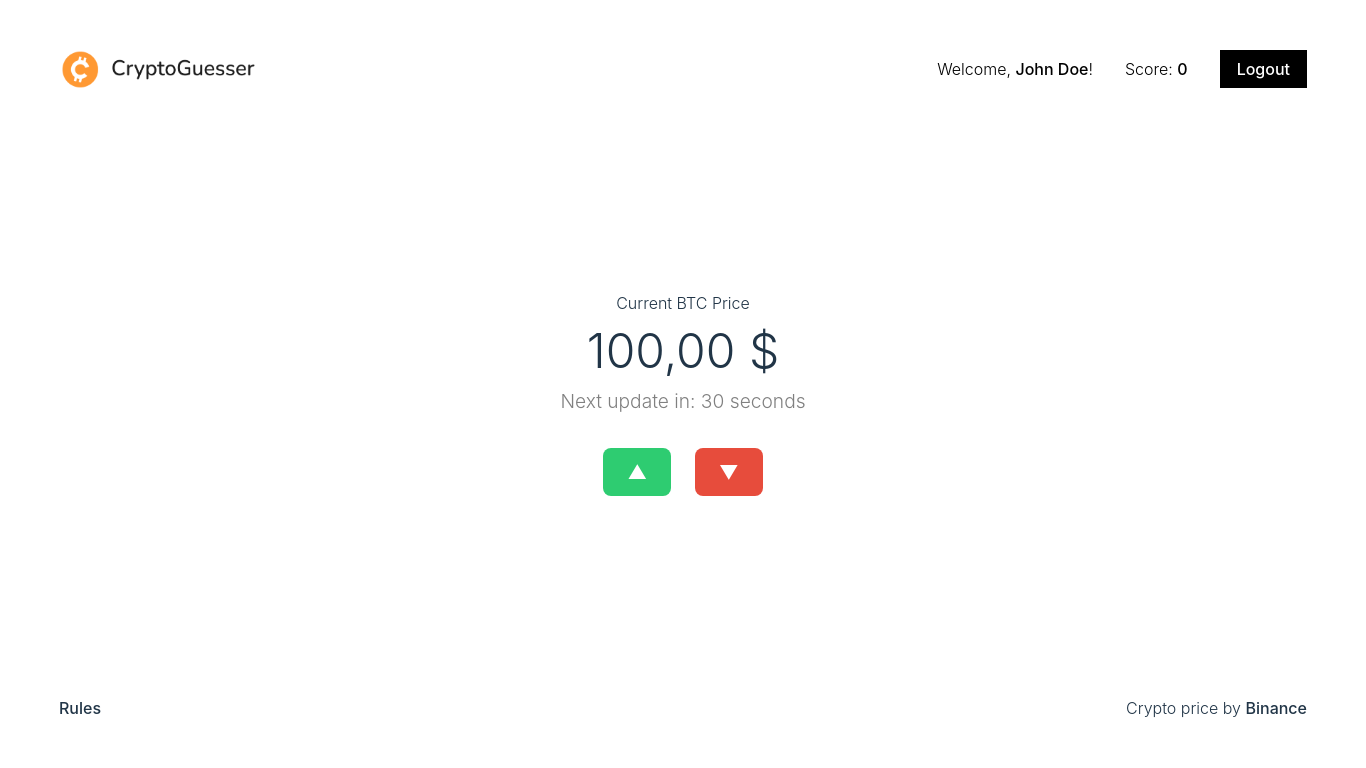
Test: Game › closes result
Click the button with test id "guess-up" at (637, 472), box [603,448,671,496]
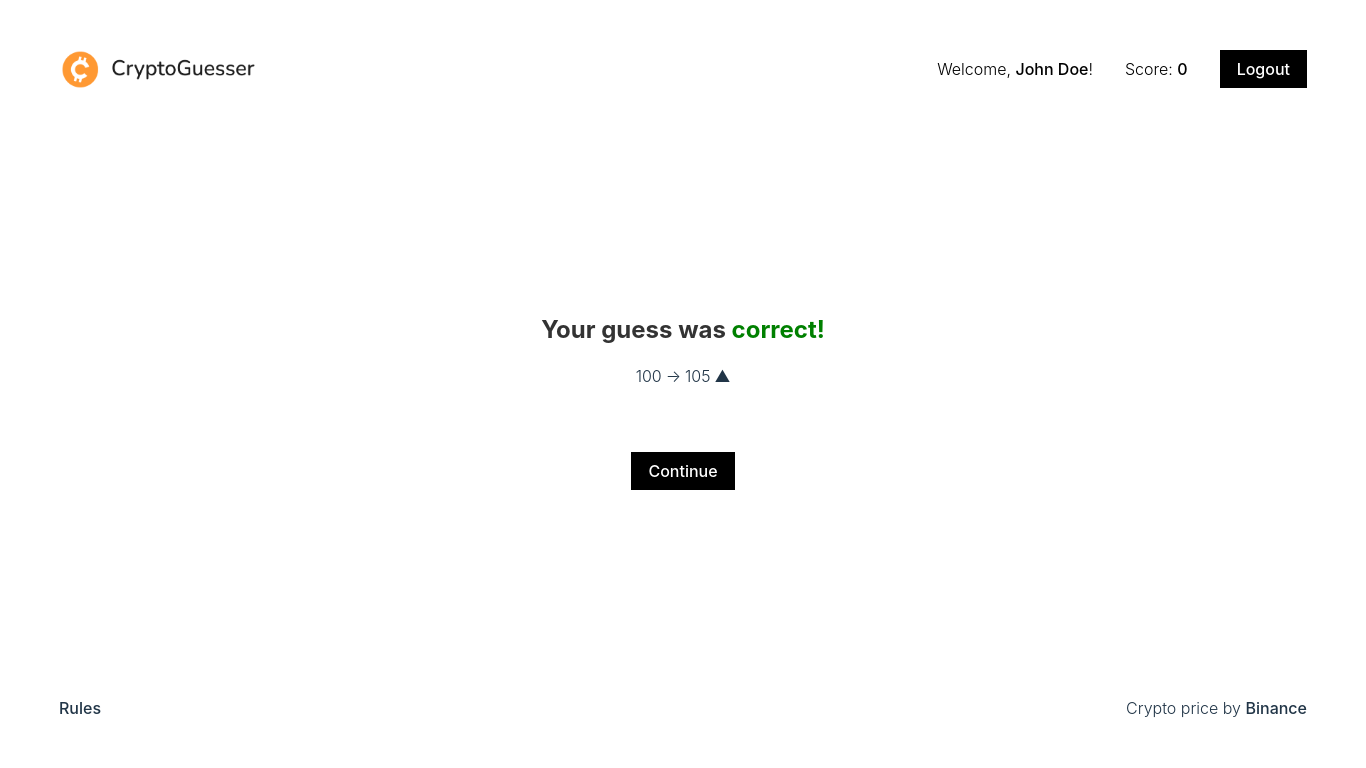
Click the button with test id "close-result" at (683, 471), box [631,452,735,490]
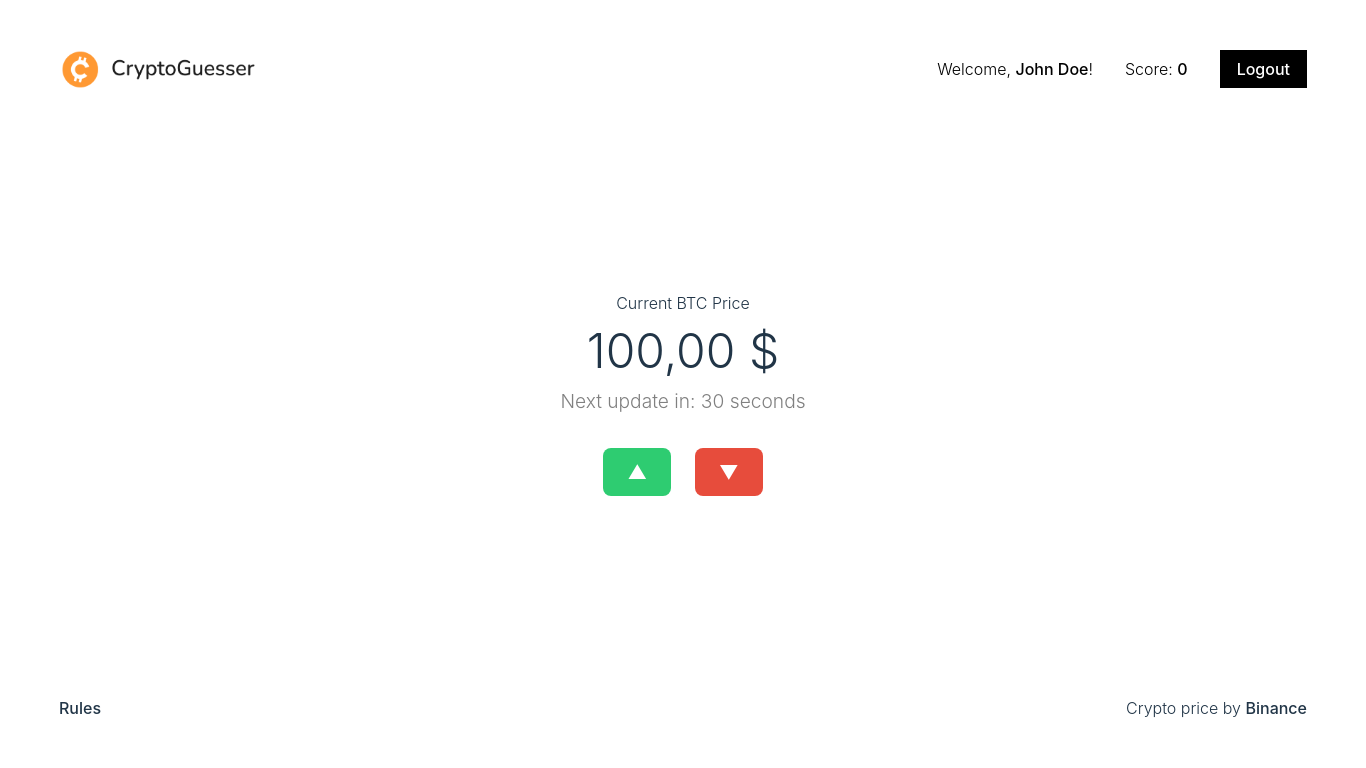
Check: the element with test id "guess-result" is gone
